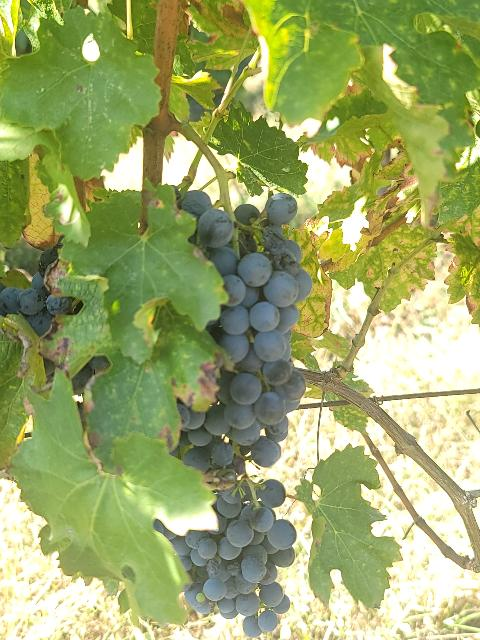grapes: (178, 190, 312, 468), (194, 479, 296, 638)
